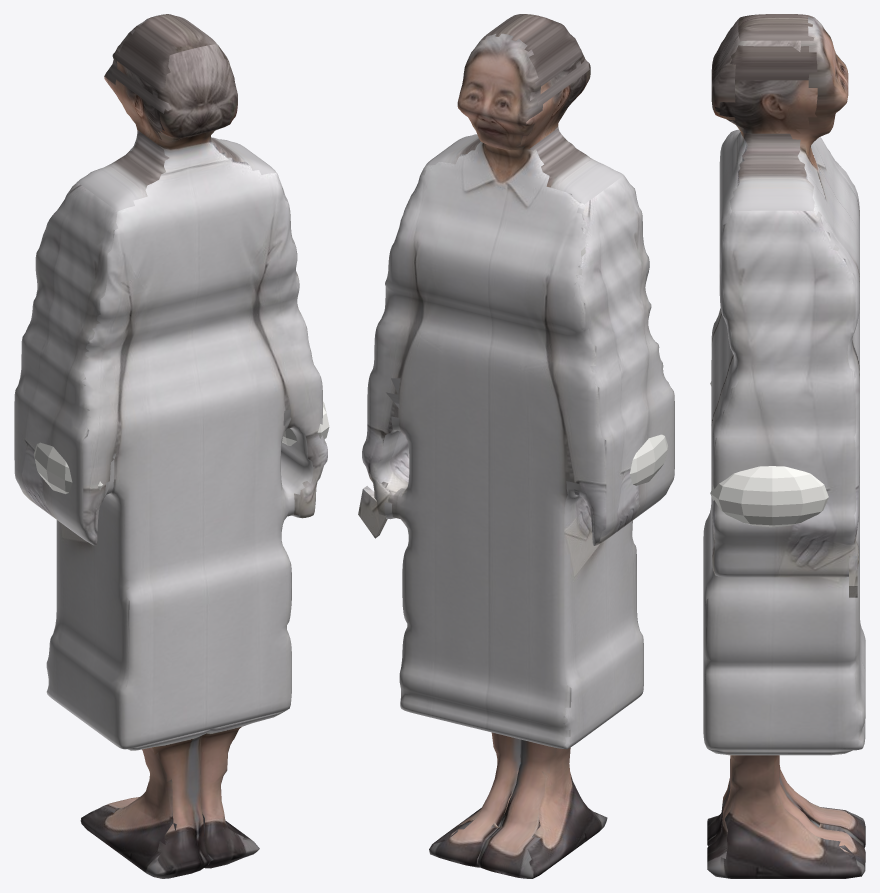
File: mrs-vane.glb
3 views of the same model, side by side, from view 1: azimuth 30°, elevation 25°; view 2: azimuth 150°, elevation 25°; view 3: azimuth 270°, elevation 25° (orthographic). The views are drawn at different scales.
Parts seen in each view (by area): view 1: mrs-vane:upper, mrs-vane:leg-l, mrs-vane:leg-r, mrs-vane:glove-l; view 2: mrs-vane:upper, mrs-vane:leg-l, mrs-vane:leg-r, mrs-vane:glove-l, mrs-vane:envelope; view 3: mrs-vane:upper, mrs-vane:leg-r, mrs-vane:glove-r, mrs-vane:leg-l, mrs-vane:envelope.
Boxes of the visible parts, left/top/right/bottom form: mrs-vane:upper: left=14, top=14, right=327, bottom=749; mrs-vane:leg-l: left=80, top=729, right=210, bottom=878; mrs-vane:leg-r: left=200, top=710, right=286, bottom=868; mrs-vane:glove-l: left=33, top=442, right=103, bottom=493; mrs-vane:upper: left=362, top=14, right=674, bottom=749; mrs-vane:leg-l: left=478, top=739, right=607, bottom=878; mrs-vane:leg-r: left=429, top=732, right=520, bottom=867; mrs-vane:glove-l: left=629, top=434, right=667, bottom=485; mrs-vane:envelope: left=358, top=486, right=387, bottom=538; mrs-vane:upper: left=703, top=14, right=865, bottom=750; mrs-vane:leg-r: left=707, top=749, right=865, bottom=878; mrs-vane:glove-r: left=710, top=466, right=828, bottom=527; mrs-vane:leg-l: left=707, top=759, right=865, bottom=847; mrs-vane:envelope: left=849, top=556, right=857, bottom=597.
Size of the model in its own units: 0.536 by 1.58 by 0.2757.
Materials: 5 (4 with a texture image).
